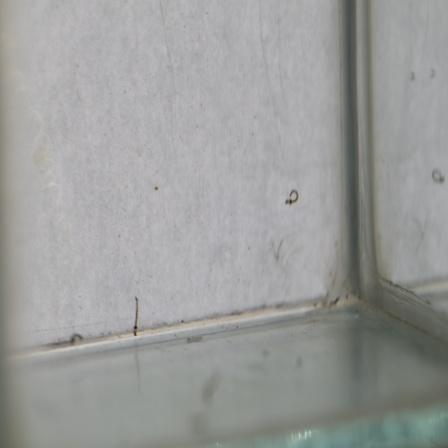Jentik-Nyamuk: (280, 184, 304, 210), (129, 293, 141, 341)
